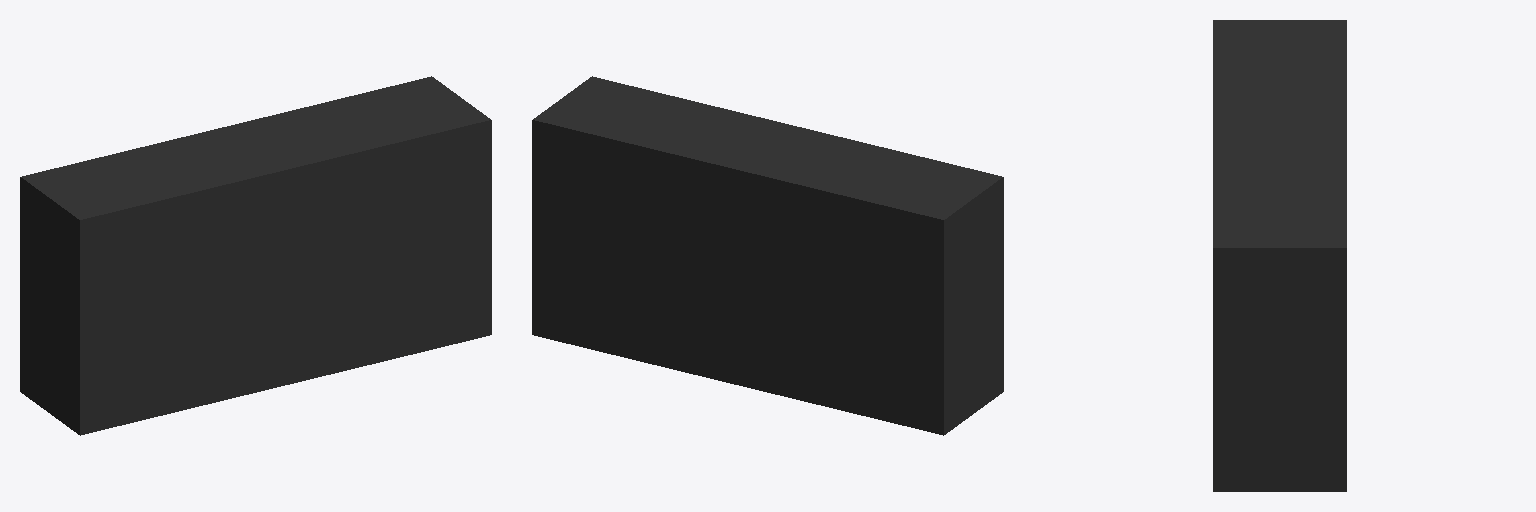
robot.urdf — wall:
<robot name="wall">
  <link name="baseLink">
   
    <inertial>
      <origin rpy="0 0 0" xyz="0 0 0" />
       <mass value="1000.0" />
       <inertia ixx="0" ixy="0" ixz="0" iyy="0" iyz="0" izz="0" />
    </inertial>
    <visual>
      <origin rpy="0 0 0" xyz="0 0 0" />
      <geometry>
			  <box size="4 1 2" />
      </geometry>
       <material name="grey">
        <color rgba="0.24 0.24 0.24 1" />
      </material>
    </visual>
    <collision>
      <origin rpy="0 0 0" xyz="0 0 0" />
      <geometry>
	 	      <box size="4 1 2" />
      </geometry>
    </collision>
  </link>
</robot>

--- Facts derived from the render (not from the file) ---
The picture shows the robot from 3 angles, left to right: view 1: azimuth 30°, elevation 25°; view 2: azimuth 150°, elevation 25°; view 3: azimuth 270°, elevation 25°; orthographic projection.
Model wall with 1 links and 0 joints (none), rooted at baseLink, posed every joint at zero.
Links seen in each view (by area): view 1: baseLink; view 2: baseLink; view 3: baseLink.
Boxes of the visible links, left/top/right/bottom form: baseLink: left=20, top=76, right=491, bottom=435; baseLink: left=532, top=76, right=1003, bottom=435; baseLink: left=1213, top=20, right=1346, bottom=491.
Bounding box of the posed robot: 4 × 1 × 2 m (x, y, z).
Geometry: primitives only (box / cylinder / sphere), no mesh files.
